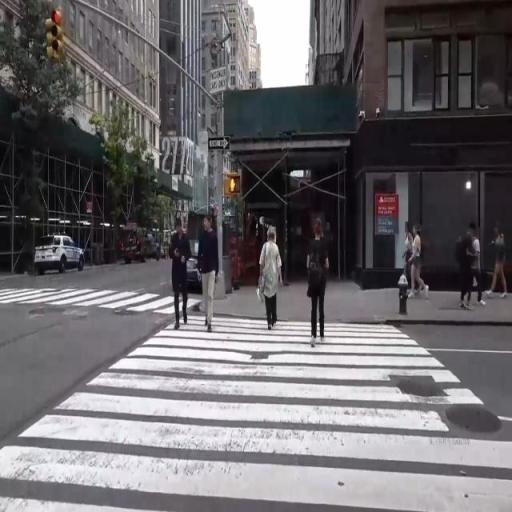person: (308, 211, 333, 345), (257, 223, 284, 341), (167, 217, 193, 328), (198, 215, 220, 342), (491, 223, 510, 313), (414, 229, 431, 314), (460, 222, 476, 310), (399, 219, 414, 290), (475, 229, 488, 305)
